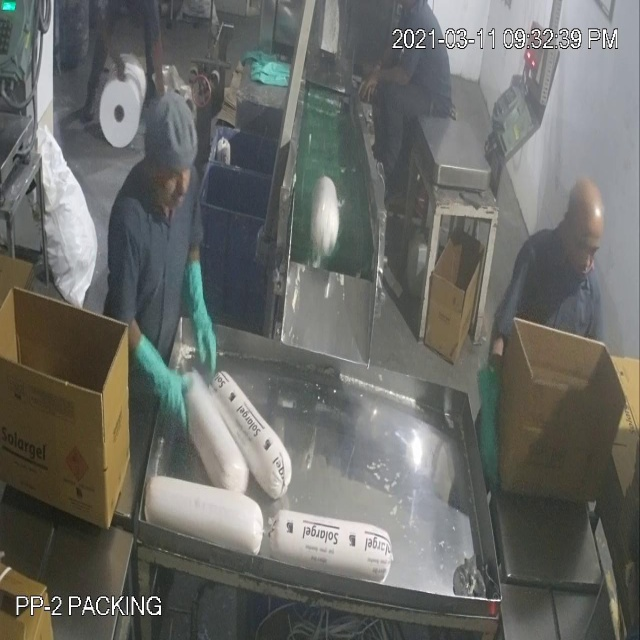Guantes: (478, 342, 519, 499)
Sin_guantes: (360, 60, 417, 115)
